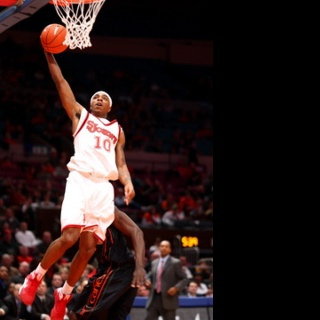without_mask: (90, 92, 109, 113), (160, 242, 171, 255)
